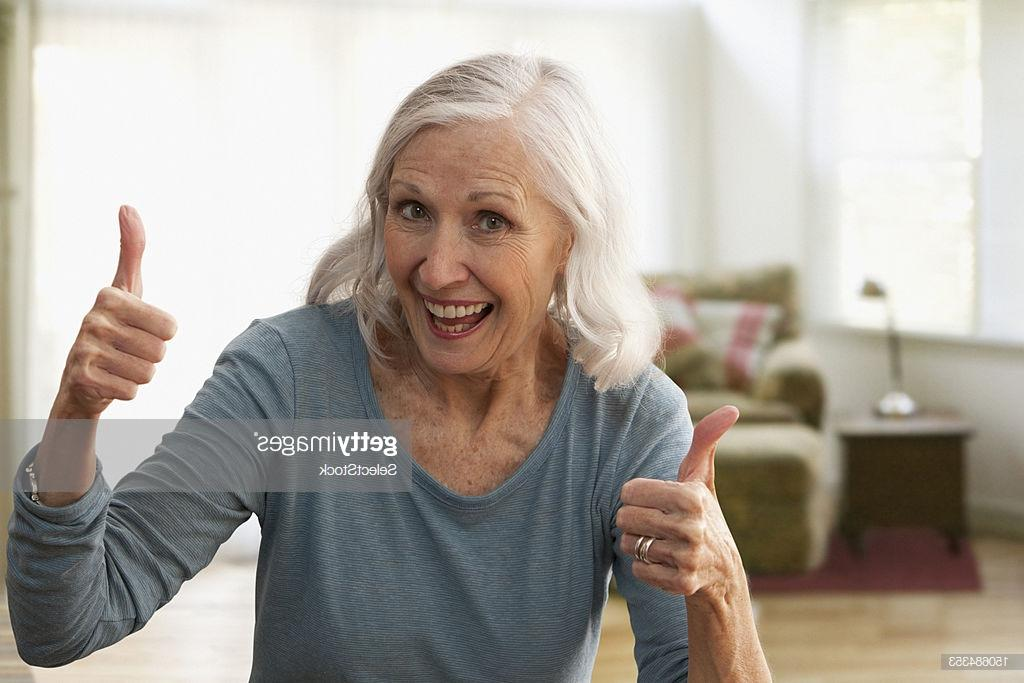thumbsup: (615, 404, 741, 597), (72, 203, 179, 401)
